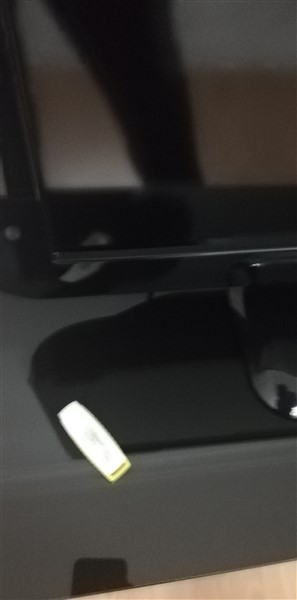flash disk: (51, 394, 135, 492)
